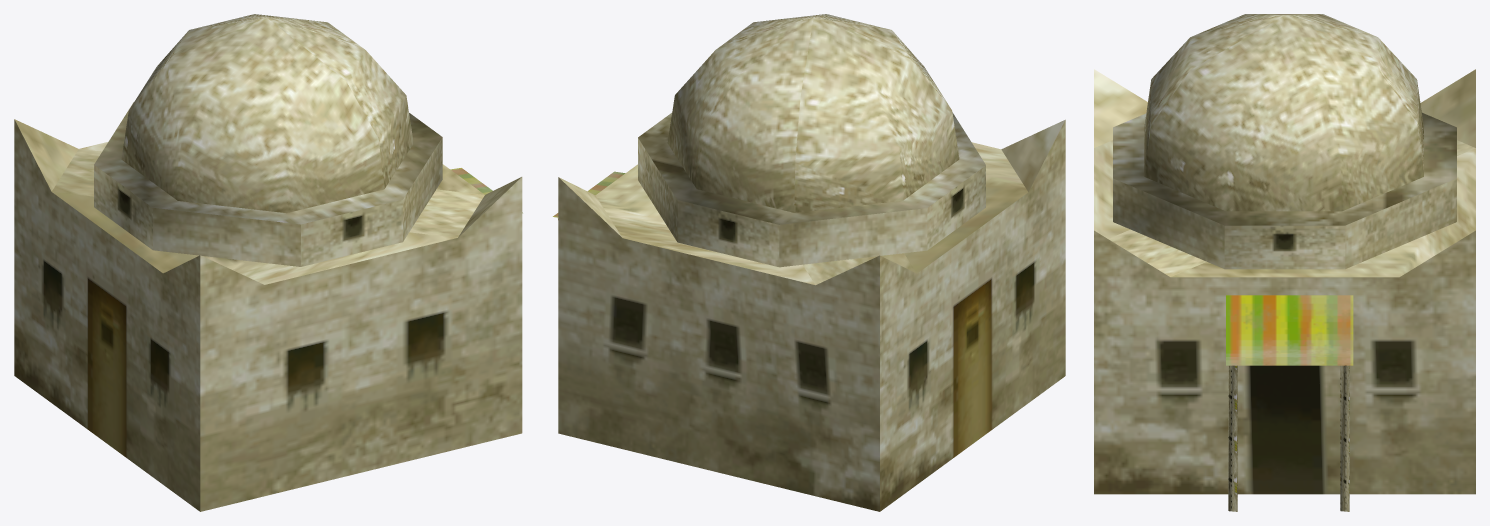
File: Civilian - Civilian Building - Mogadishu Dome - Night - CBTDome_N.glb
The picture shows the model from 3 angles, left to right: view 1: azimuth 30°, elevation 25°; view 2: azimuth 150°, elevation 25°; view 3: azimuth 270°, elevation 25°; orthographic projection. The views are drawn at different scales.
Parts seen in each view (by area): view 1: CBTDOME_N; view 2: CBTDOME_N; view 3: CBTDOME_N.
Boxes of the visible parts, bbox=[...] form: CBTDOME_N: bbox=[14, 14, 522, 511]; CBTDOME_N: bbox=[553, 14, 1065, 511]; CBTDOME_N: bbox=[1094, 14, 1475, 511].
Bounding box in the file's own units: 36.11 × 34.92 × 30.
Materials: 1 (1 with a texture image).
